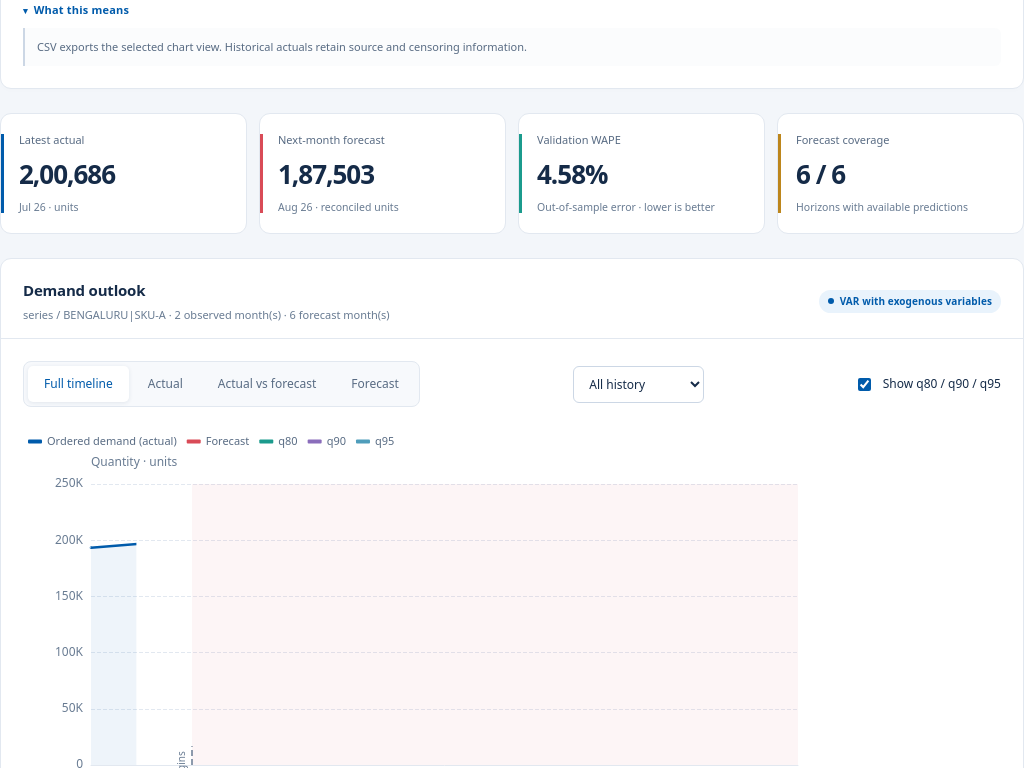
Scenario: ForecastExplorerPage › shows unavailable backtests as an explicit state, not an invented comparison
The image size is (1024, 768).
(page scrolled)
Click the button "Actual vs forecast": coordinates (267, 384) [202, 366, 332, 402]
(page scrolled)
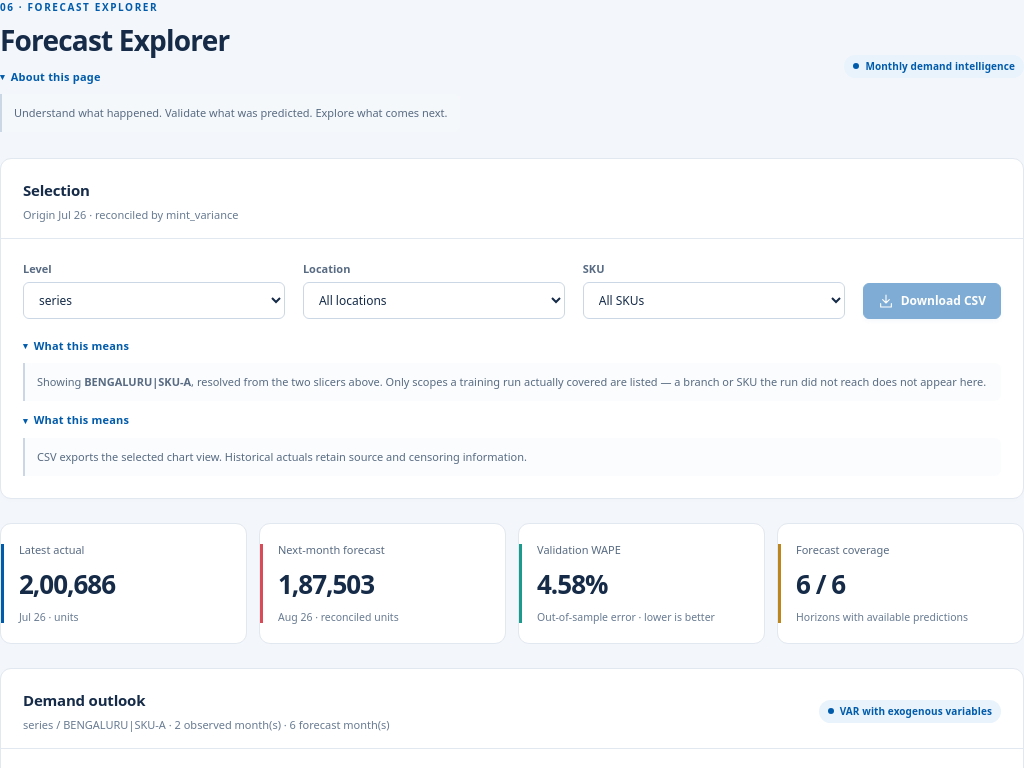
Check: the button "Download CSV" is disabled, box [863, 283, 1001, 319]
